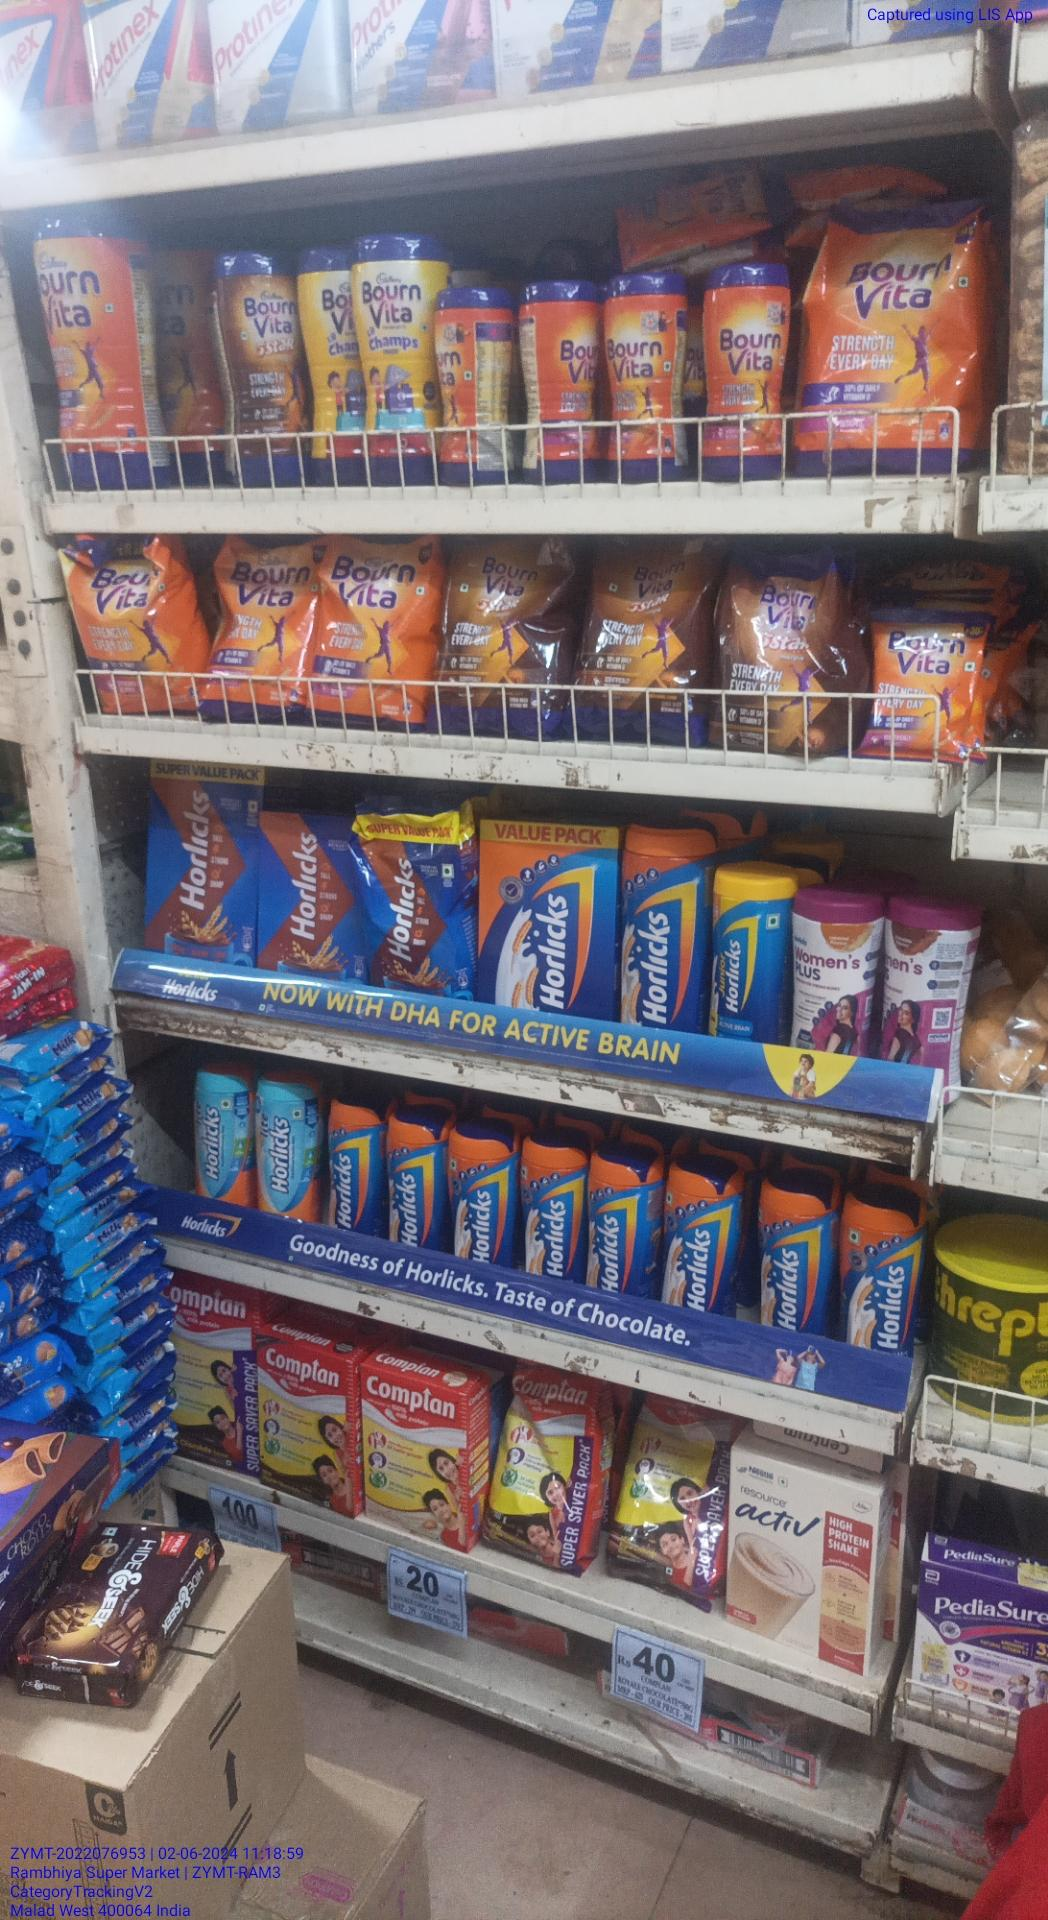BOURN_VITA_75_G_POUCH: (863, 610, 989, 763)
BOURN_VITA_CHAMPS_500_G_JAR: (358, 240, 436, 483), (297, 246, 355, 477)
BOURN_VITA_FIVE_STAR_MAGIC_500_G_JAR: (216, 243, 293, 481)
BOURN_VITA_FIVE_STAR_MAGIC_500_G_POUCH: (718, 533, 851, 763)
BOURN_VITA_FIVE_STAR_MAGIC_750_G_POUCH: (432, 538, 568, 746), (582, 537, 709, 747)
HORLICKS_JUNIOR_VANILLA_500_GM_JAR: (715, 870, 787, 1043)
HORLICKS_LITE_REGULAR_MALT_500_GM_JAR: (259, 1068, 317, 1225), (192, 1063, 252, 1212)
